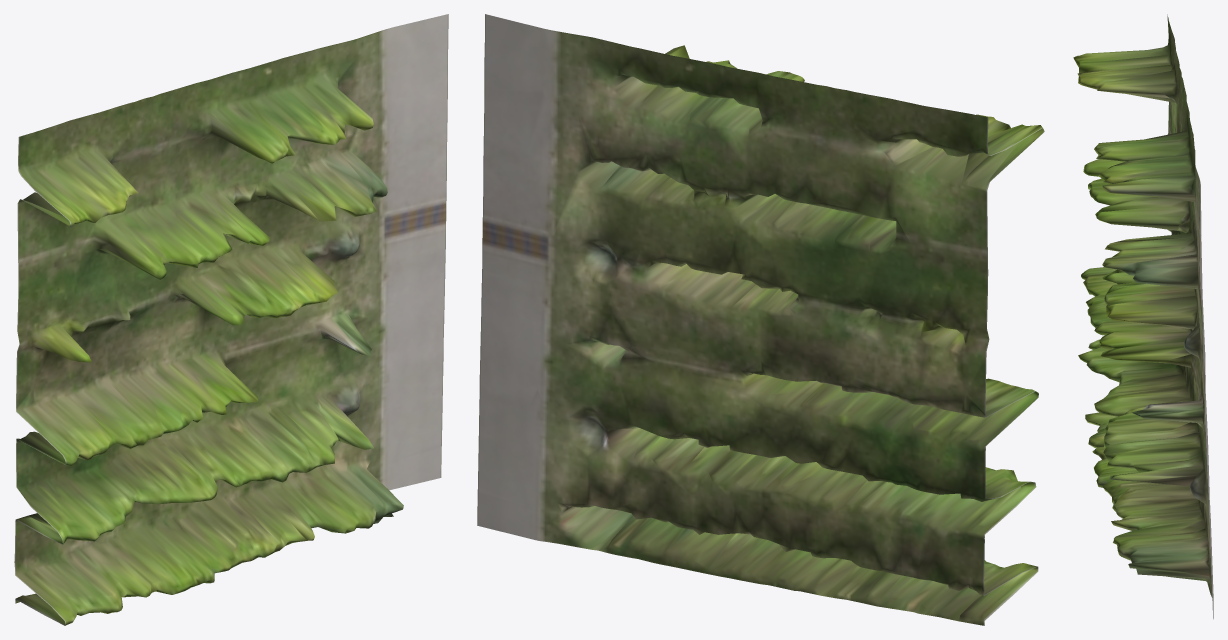
File: map_90_80.obj
The picture shows the model from 3 angles, left to right: view 1: azimuth 30°, elevation 25°; view 2: azimuth 150°, elevation 25°; view 3: azimuth 270°, elevation 25°; orthographic projection. The views are drawn at different scales.
Visible parts, largest first — view 1: map_90_80.obj; view 2: map_90_80.obj; view 3: map_90_80.obj.
Part boxes in pixels (x1,y1,x2,y2): map_90_80.obj: [14, 14, 448, 625]; map_90_80.obj: [477, 14, 1044, 625]; map_90_80.obj: [1073, 14, 1213, 619].
Size of the model in its own units: 10 by 10 by 3.05.
Materials: 1 (1 with a texture image).
